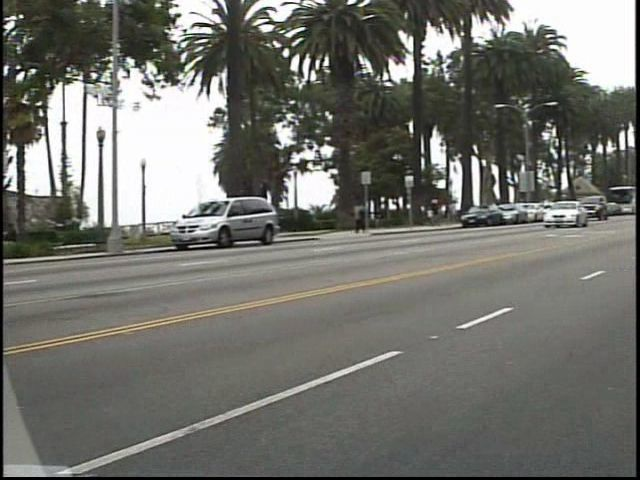person: (358, 199, 380, 238), (435, 192, 455, 227)
